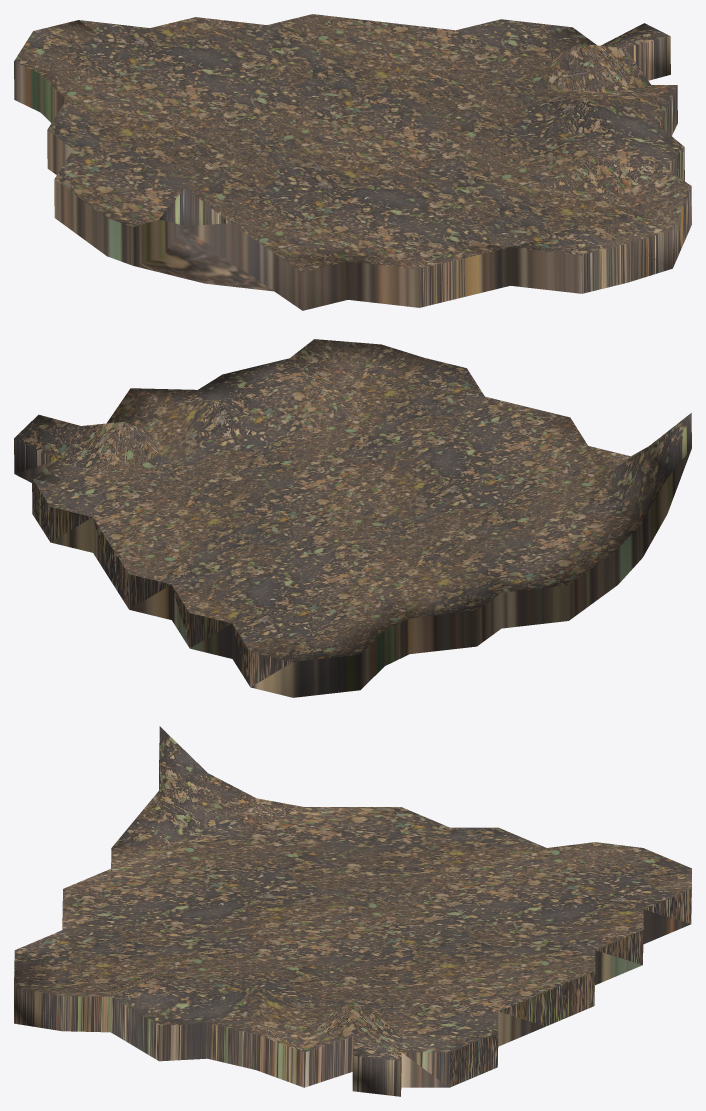
File: mudpit.dae
3 renders of one model, top to bottom at view 1: azimuth 30°, elevation 25°; view 2: azimuth 150°, elevation 25°; view 3: azimuth 270°, elevation 25°, orthographic. The views are drawn at different scales.
Visible parts, largest first — view 1: Landscape.001; view 2: Landscape.001; view 3: Landscape.001.
Part boxes in pixels (left/top/right/bottom): Landscape.001: left=14, top=14, right=691, bottom=310; Landscape.001: left=14, top=339, right=691, bottom=697; Landscape.001: left=14, top=726, right=691, bottom=1096.
Size of the model in its own units: 51.18 by 55.17 by 10.45.
Materials: 1 (1 with a texture image).
